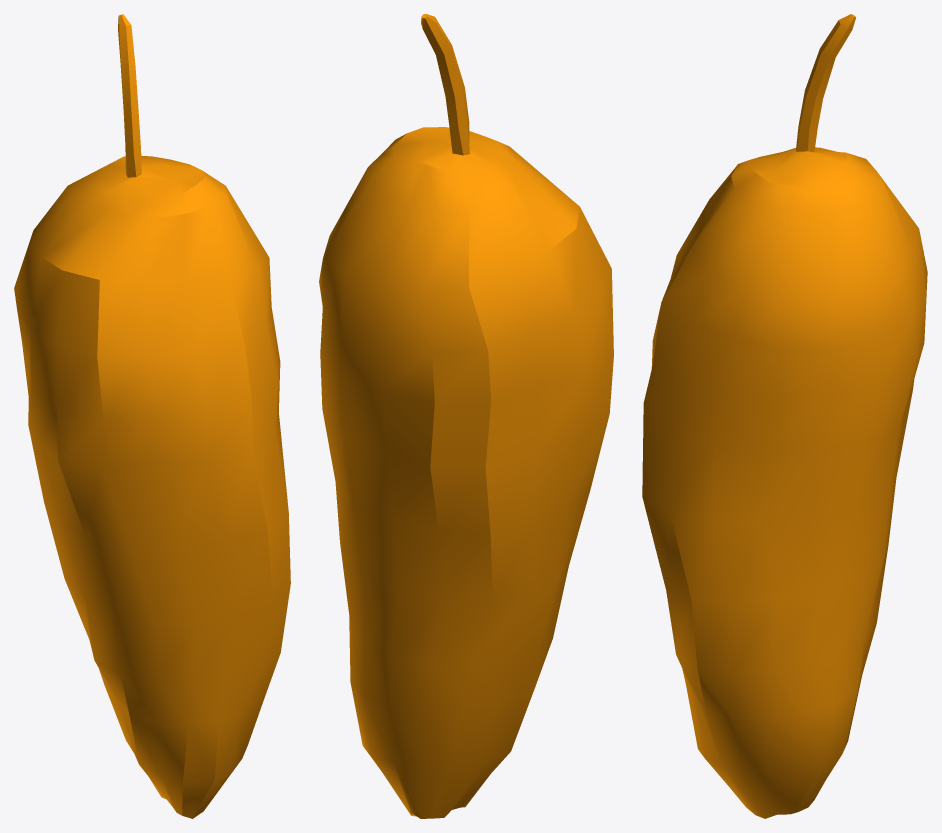
File: Zan.fbx
3 renders of one model, left to right at view 1: azimuth 30°, elevation 25°; view 2: azimuth 150°, elevation 25°; view 3: azimuth 270°, elevation 25°, orthographic. The views are drawn at different scales.
Visible parts, largest first — view 1: RetopoFlow.001; view 2: RetopoFlow.001; view 3: RetopoFlow.001.
Part boxes in pixels (x1,y1,x2,y2): RetopoFlow.001: [14, 14, 290, 818]; RetopoFlow.001: [319, 14, 613, 818]; RetopoFlow.001: [642, 14, 927, 818].
Size of the model in its own units: 91.79 by 295 by 97.
